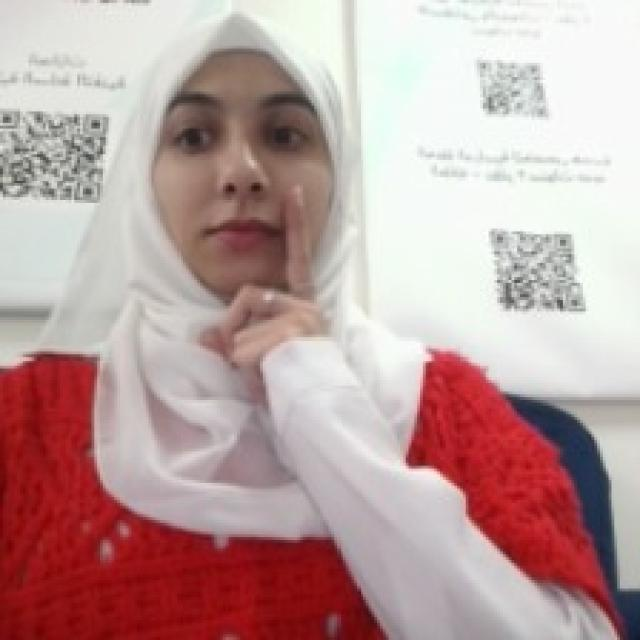mother: (191, 177, 340, 377)
